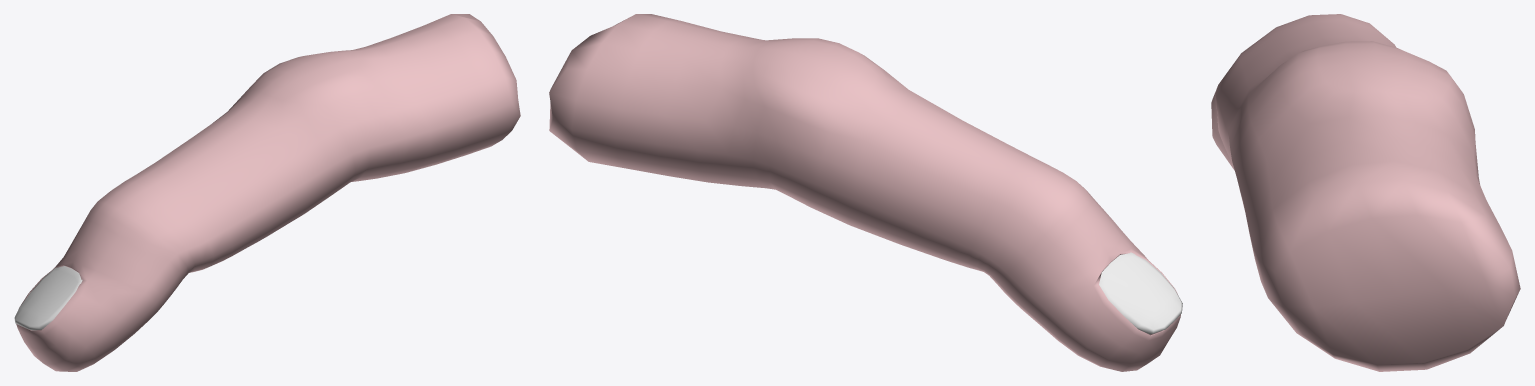
The model's file is Finger.fbx.
3 views of the same model, side by side, from view 1: azimuth 30°, elevation 25°; view 2: azimuth 150°, elevation 25°; view 3: azimuth 270°, elevation 25° (orthographic). The views are drawn at different scales.
Parts seen in each view (by area): view 1: polySurface3; view 2: polySurface3; view 3: polySurface3.
Part boxes in pixels (left/top/right/bottom): polySurface3: left=14, top=14, right=520, bottom=371; polySurface3: left=549, top=14, right=1182, bottom=371; polySurface3: left=1211, top=14, right=1520, bottom=371.
Bounding box in the file's own units: 2.88 × 1.23 × 0.9872.
